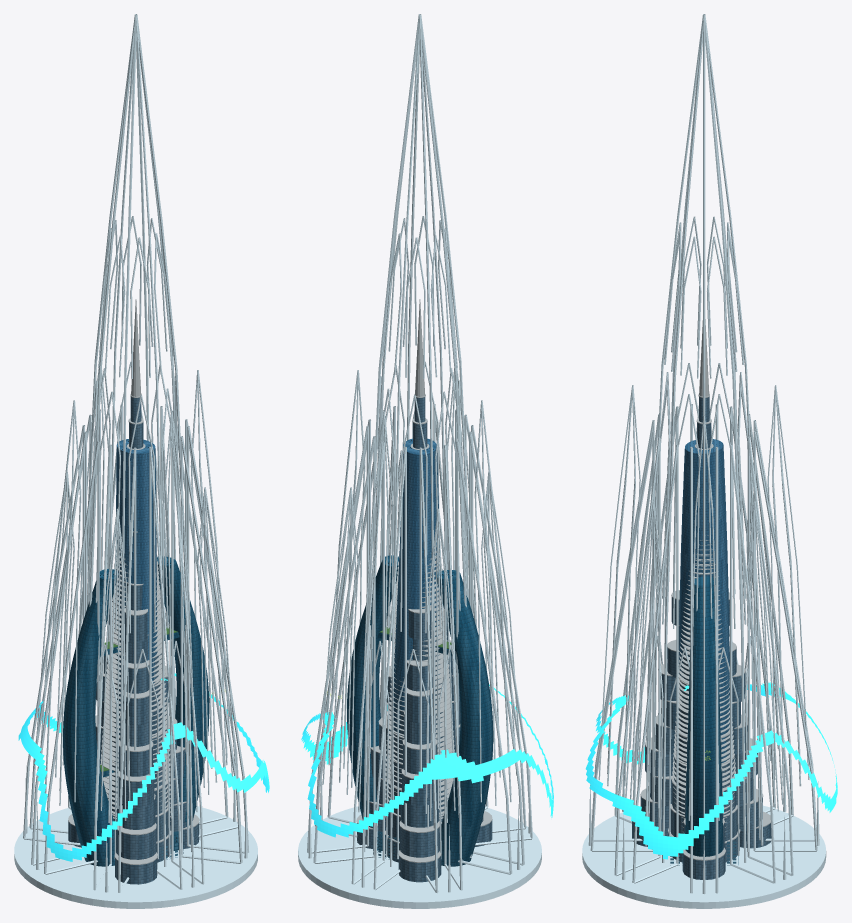
File: Catalog-50.glb
The picture shows the model from 3 angles, left to right: view 1: azimuth 30°, elevation 25°; view 2: azimuth 150°, elevation 25°; view 3: azimuth 270°, elevation 25°; orthographic projection.
Visible parts, largest first — view 1: Metropolis Crystal Frame, Metropolis Glass Cerulean, Metropolis Glass SilverBlue, Metropolis Silver (×2), Metropolis Glass Glacier, Metropolis Sphere Screen 09; view 2: Metropolis Crystal Frame, Metropolis Glass Cerulean, Metropolis Glass SilverBlue, Metropolis Glass Glacier, Metropolis Sphere Screen 09, Metropolis Silver (×2); view 3: Metropolis Crystal Frame, Metropolis Glass SilverBlue, Metropolis Glass Glacier, Metropolis Glass Cerulean, Metropolis Sphere Screen 09, Metropolis Silver (×2).
Boxes of the visible parts, left/top/right/bottom form: Metropolis Crystal Frame: left=14, top=14, right=257, bottom=908; Metropolis Glass Cerulean: left=63, top=556, right=209, bottom=866; Metropolis Glass SilverBlue: left=68, top=397, right=199, bottom=884; Metropolis Silver (×2): left=68, top=299, right=199, bottom=864; Metropolis Glass Glacier: left=114, top=439, right=157, bottom=787; Metropolis Sphere Screen 09: left=18, top=673, right=269, bottom=861; Metropolis Crystal Frame: left=298, top=14, right=541, bottom=908; Metropolis Glass Cerulean: left=347, top=555, right=493, bottom=866; Metropolis Glass SilverBlue: left=357, top=397, right=492, bottom=882; Metropolis Glass Glacier: left=393, top=438, right=440, bottom=757; Metropolis Sphere Screen 09: left=301, top=684, right=553, bottom=837; Metropolis Silver (×2): left=356, top=299, right=492, bottom=862; Metropolis Crystal Frame: left=582, top=14, right=826, bottom=908; Metropolis Glass SilverBlue: left=632, top=397, right=771, bottom=879; Metropolis Glass Glacier: left=679, top=439, right=729, bottom=763; Metropolis Glass Cerulean: left=685, top=576, right=723, bottom=856; Metropolis Sphere Screen 09: left=585, top=682, right=837, bottom=859; Metropolis Silver (×2): left=633, top=319, right=770, bottom=860.
Size of the model in its own units: 353 by 1250 by 344.
15 materials, 3 textured.
